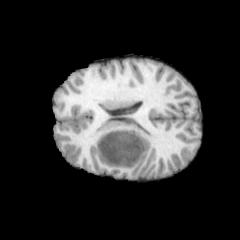glioma: (95, 129, 150, 169)
